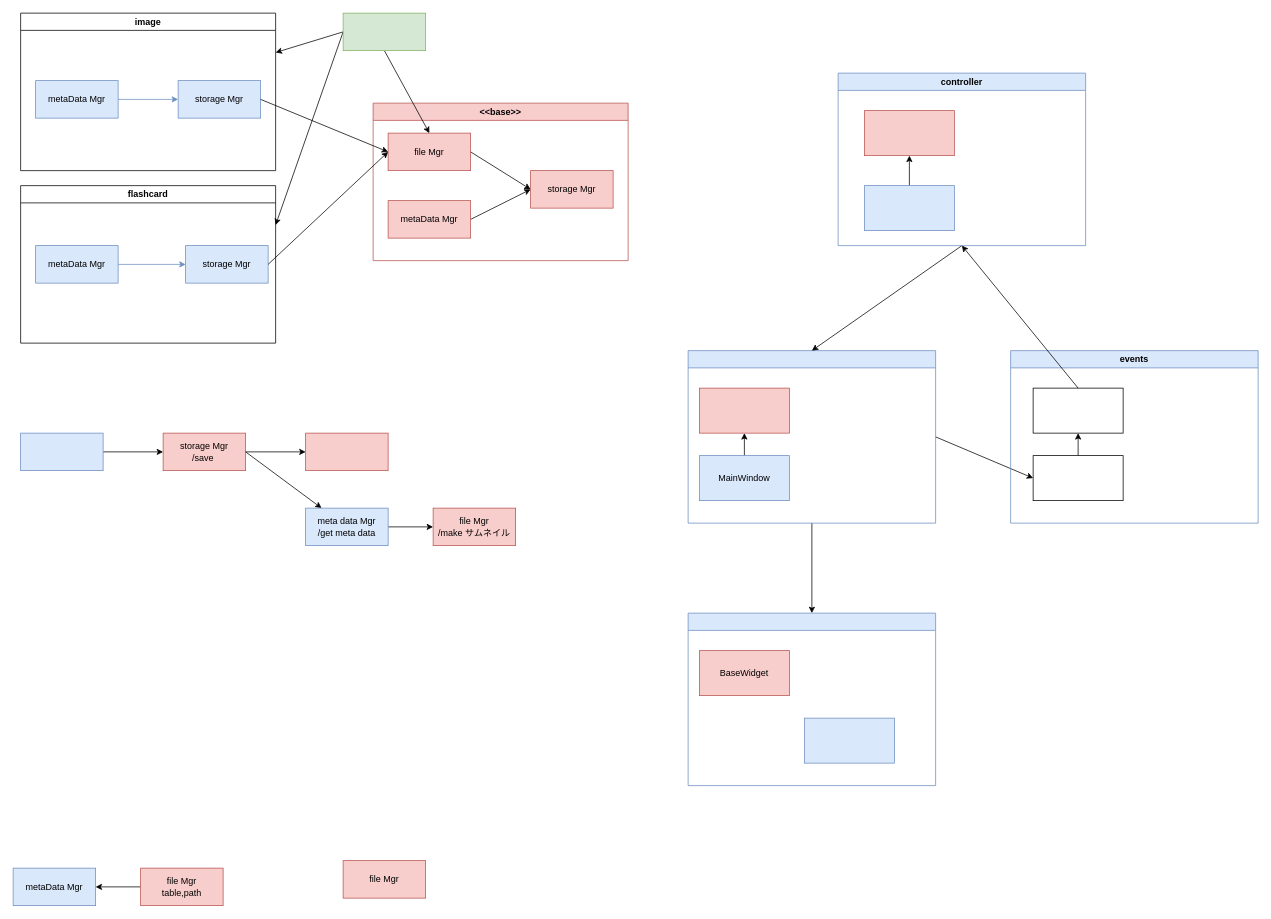
The diagram is 1271 pixels wide and 919 high, and some of its shapes have lost their labels. Here are the shapes that lost their labels. From the top down, the box of each, then its label:
(342, 12, 426, 51): StorageMGR
(864, 110, 954, 156): BaseController
(864, 185, 954, 231): MainController
(699, 387, 789, 433): BaseMainWindow
(1032, 387, 1123, 433): EventDispatcher
(20, 432, 103, 471): storage Mgr /save file
(305, 432, 388, 471): file Mgr /save
(687, 350, 936, 523): view
(1032, 455, 1123, 501): Event
(687, 612, 936, 786): compoments
